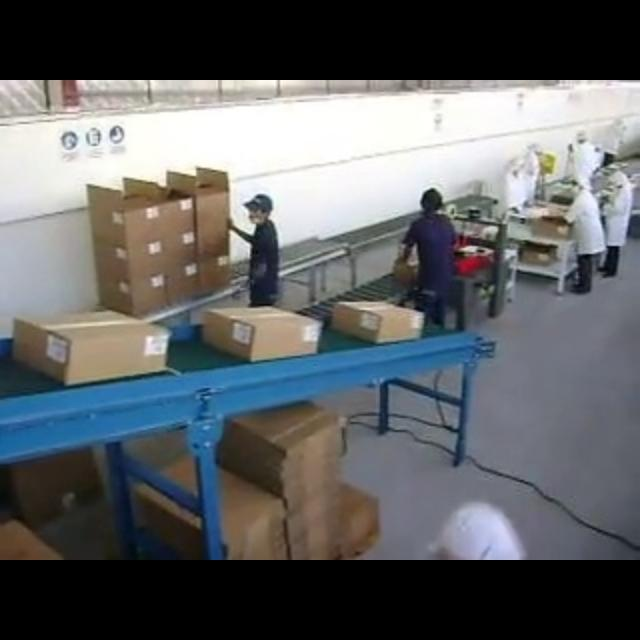Box: (81, 163, 232, 319), (9, 308, 174, 390), (200, 304, 326, 364), (330, 296, 428, 346)
